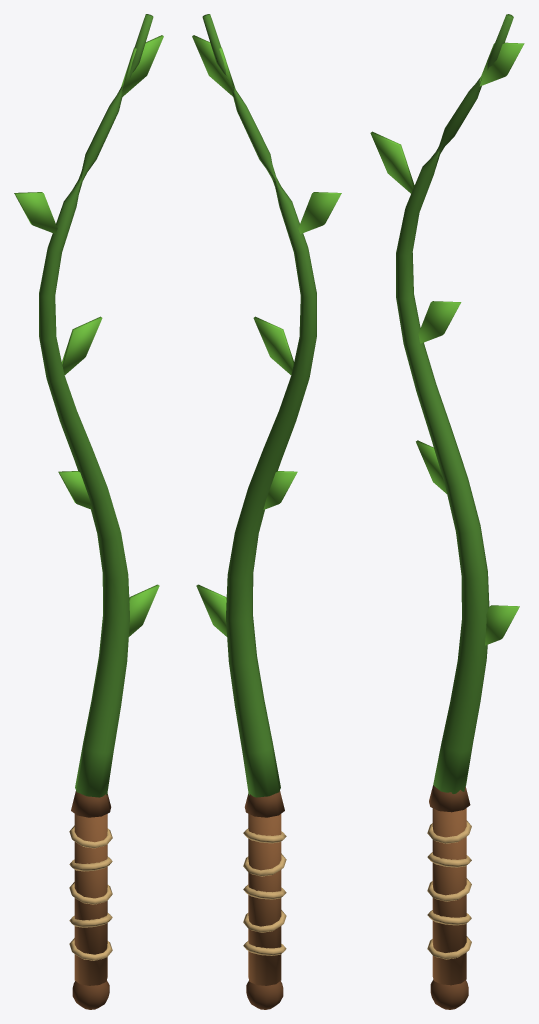
File: 01_plains_whip.fbx
The picture shows the model from 3 angles, left to right: view 1: azimuth 30°, elevation 25°; view 2: azimuth 150°, elevation 25°; view 3: azimuth 330°, elevation 25°; orthographic projection. The views are drawn at different scales.
Parts seen in each view (by area): view 1: Weapon; view 2: Weapon; view 3: Weapon.
Boxes of the visible parts, left/top/right/bottom form: Weapon: left=14, top=14, right=163, bottom=1009; Weapon: left=192, top=14, right=341, bottom=1009; Weapon: left=370, top=14, right=524, bottom=1009.
Bounding box in the file's own units: 26.56 × 168 × 6.43.
1 material, 1 textured.
